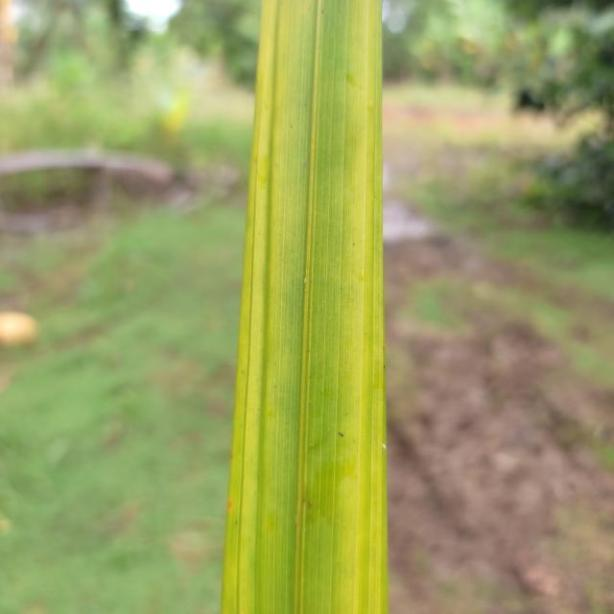nitrogen: (216, 0, 380, 614)
